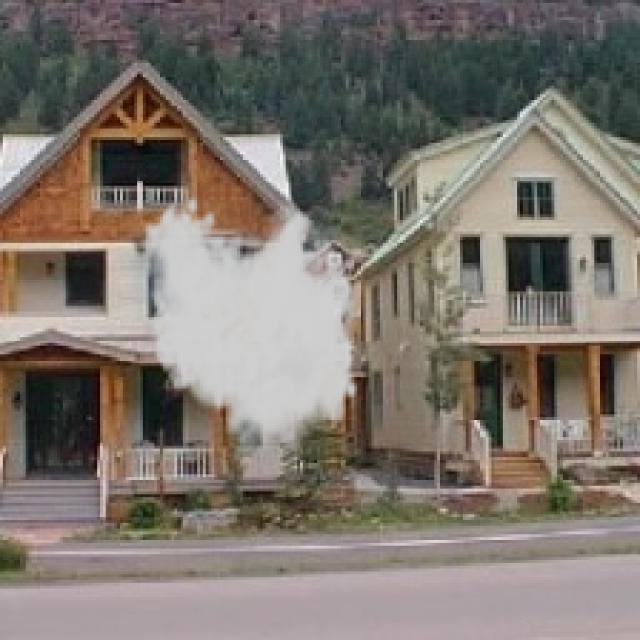smoke: (140, 194, 371, 463)
